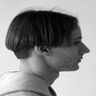ear: (30, 37, 55, 60)
